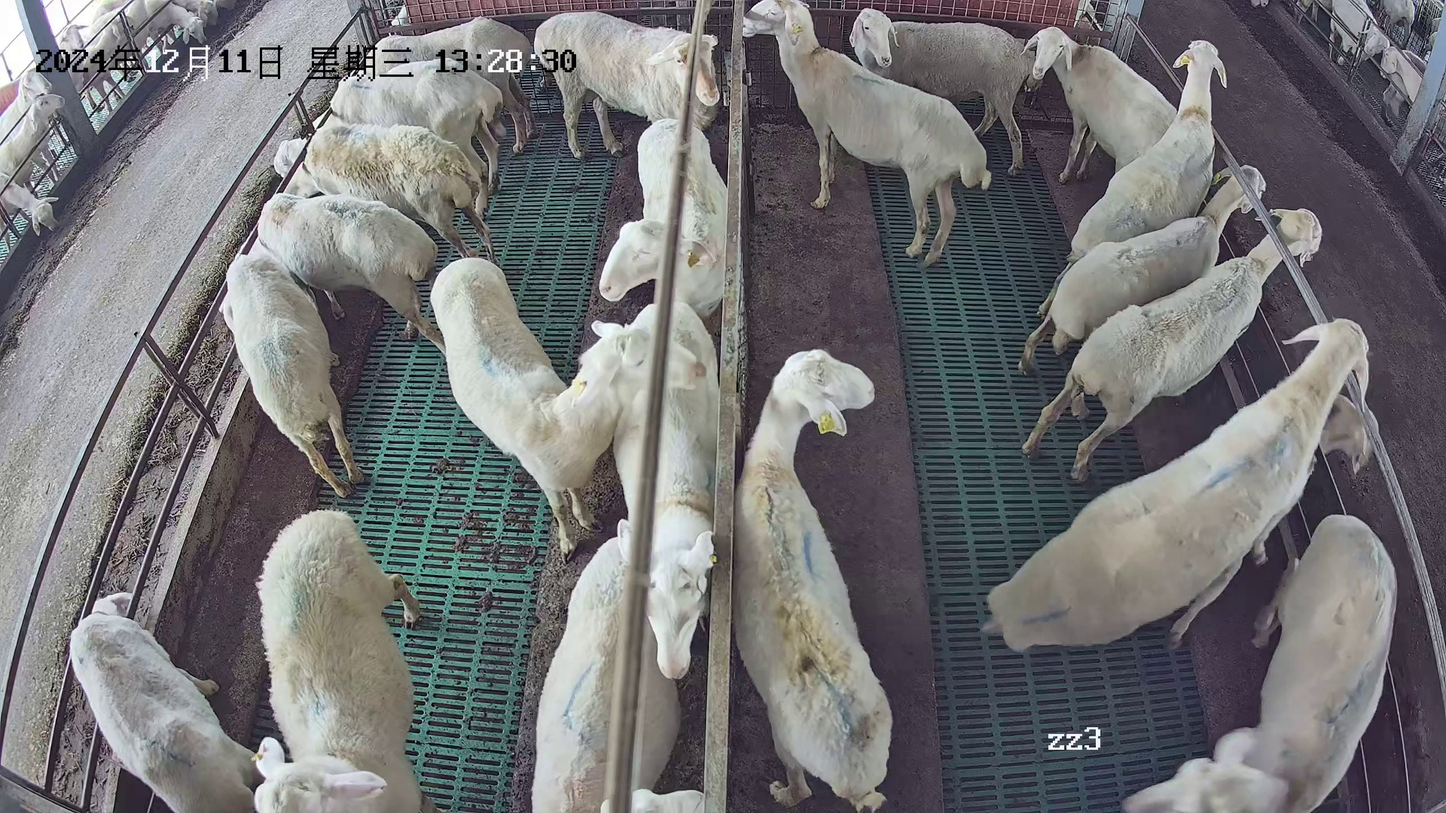Smounting: (982, 317, 1383, 652)
mounted: (1166, 392, 1380, 648)
